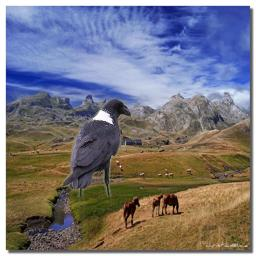Crow: (62, 98, 131, 197)
